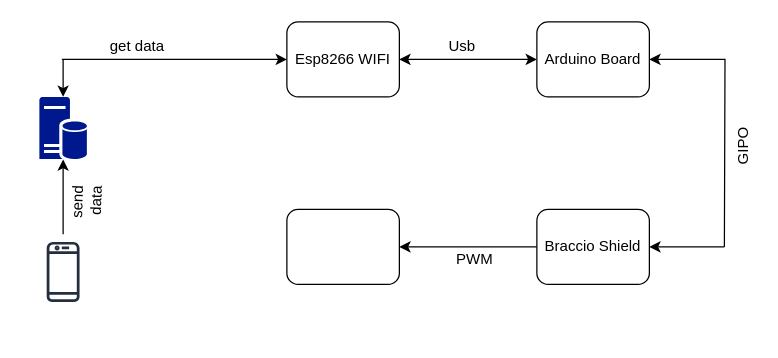
Image size: 778x358. Some labels were removed from this diagram. The centre of each missing label's shape, as x and y in pixels:
"Braccio Arm 4 Dof(No Gripper)" belongs at [342,246].
"Mobile client" belongs at [62,271].
